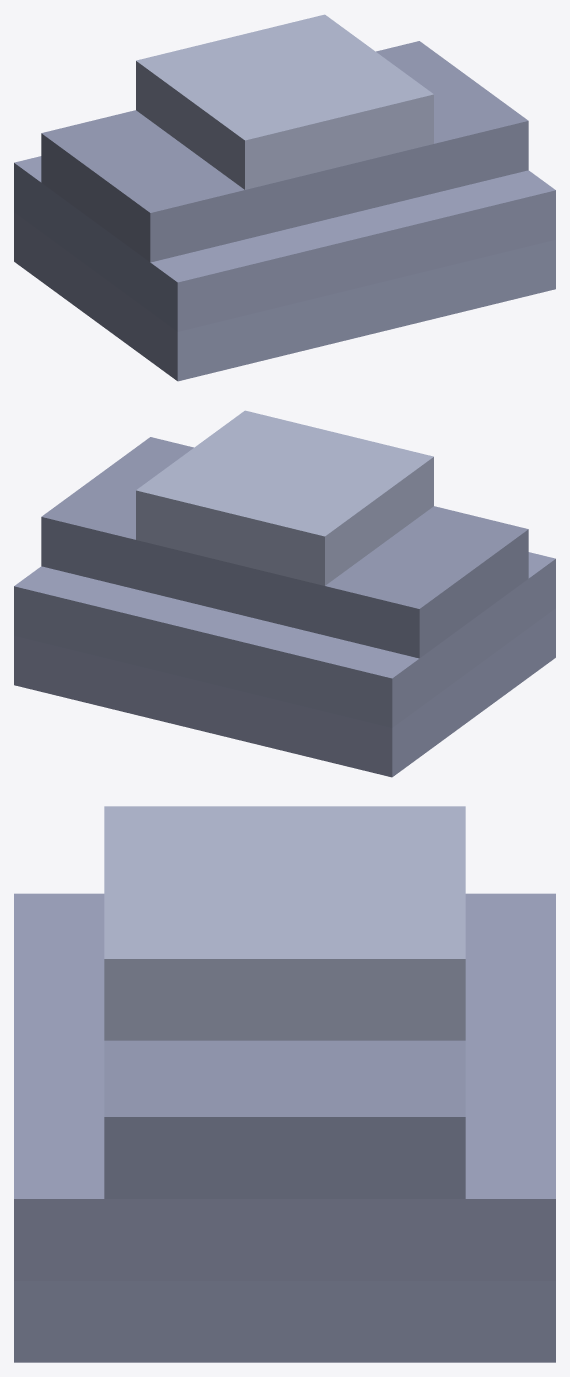
Rendered from mat_starsteel_lod1.glb.
The picture shows the model from 3 angles, top to bottom: view 1: azimuth 30°, elevation 25°; view 2: azimuth 150°, elevation 25°; view 3: azimuth 270°, elevation 25°; orthographic projection. The views are drawn at different scales.
Visible parts, largest first — view 1: mat_starsteel_lod1; view 2: mat_starsteel_lod1; view 3: mat_starsteel_lod1.
Part boxes in pixels (bbox=[...]): mat_starsteel_lod1: bbox=[14, 14, 555, 381]; mat_starsteel_lod1: bbox=[14, 410, 555, 777]; mat_starsteel_lod1: bbox=[14, 806, 555, 1362].
Bounding box in the file's own units: 0.192 × 0.096 × 0.144.
